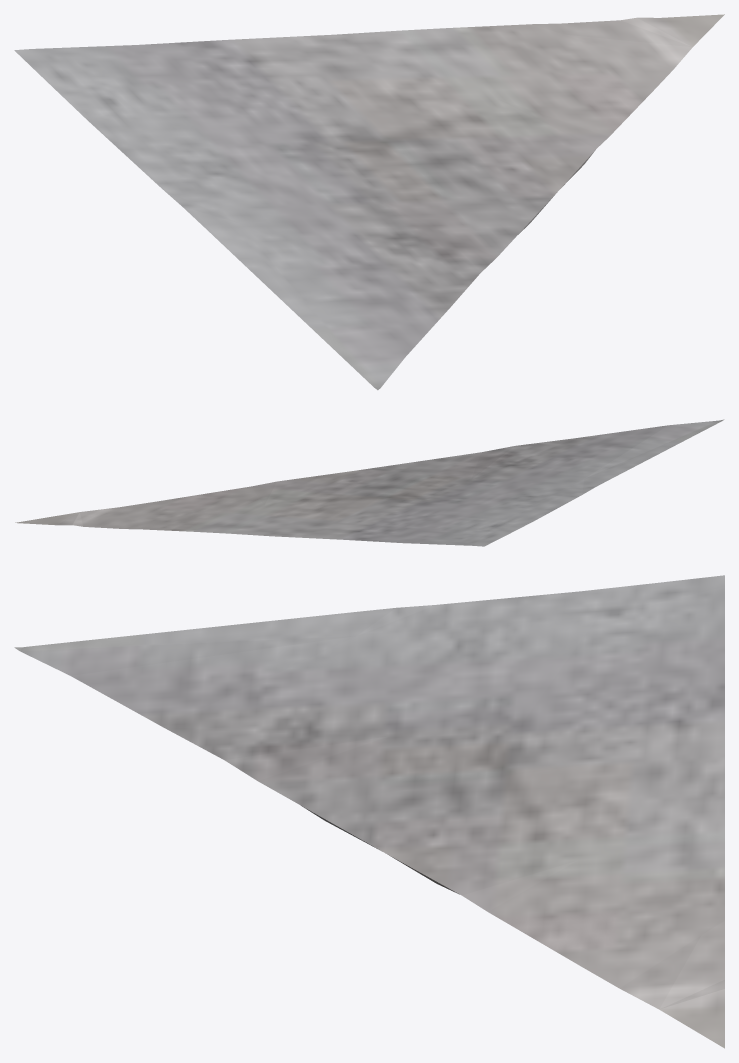
The picture shows the model from 3 angles, top to bottom: view 1: azimuth 30°, elevation 25°; view 2: azimuth 150°, elevation 25°; view 3: azimuth 270°, elevation 25°; orthographic projection. The views are drawn at different scales.
Bounding box in the file's own units: 2.6 × 0.4808 × 2.3.
1 material, 1 textured.
